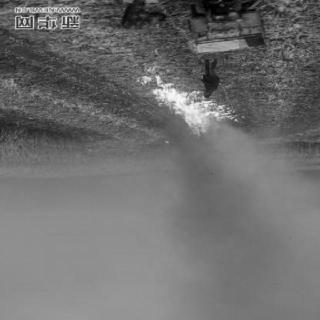Fire: (135, 73, 241, 136)
